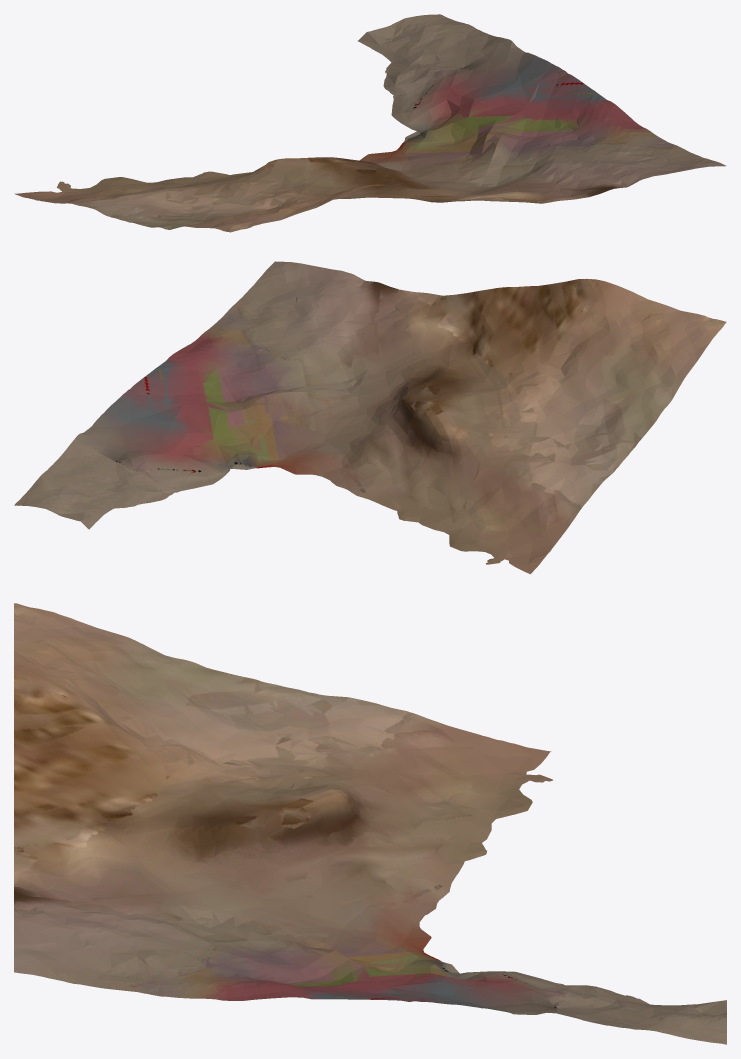
3 views of the same model, one above another, from view 1: azimuth 30°, elevation 25°; view 2: azimuth 150°, elevation 25°; view 3: azimuth 270°, elevation 25° (orthographic). The views are drawn at different scales.
Size of the model in its own units: 1.04 by 0.2639 by 1.04.
Materials: 2 (2 with a texture image).
